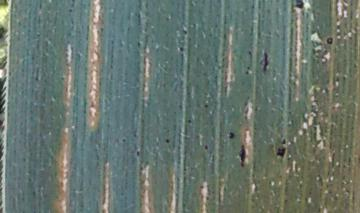tarspot: (261, 50, 270, 74), (238, 143, 246, 168), (275, 146, 286, 158), (293, 1, 305, 10), (325, 36, 334, 46), (227, 130, 235, 140), (135, 40, 142, 51), (203, 142, 210, 152), (280, 137, 287, 145), (177, 45, 184, 53), (181, 28, 188, 36), (163, 137, 171, 144), (69, 1, 76, 9), (351, 61, 358, 69), (246, 49, 252, 58), (334, 74, 340, 83), (202, 102, 209, 109), (120, 137, 127, 144), (135, 149, 141, 157), (205, 195, 211, 203), (186, 118, 192, 125), (198, 183, 205, 189), (244, 70, 250, 77), (246, 64, 251, 71), (341, 75, 346, 82), (99, 26, 104, 33), (67, 7, 72, 13)
